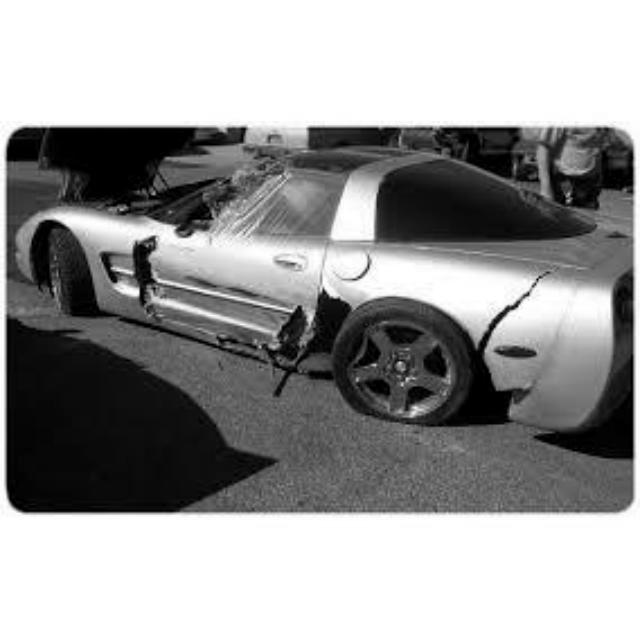doorouter-dent: (147, 236, 318, 344)
quaterpanel-dent: (417, 255, 563, 356)
